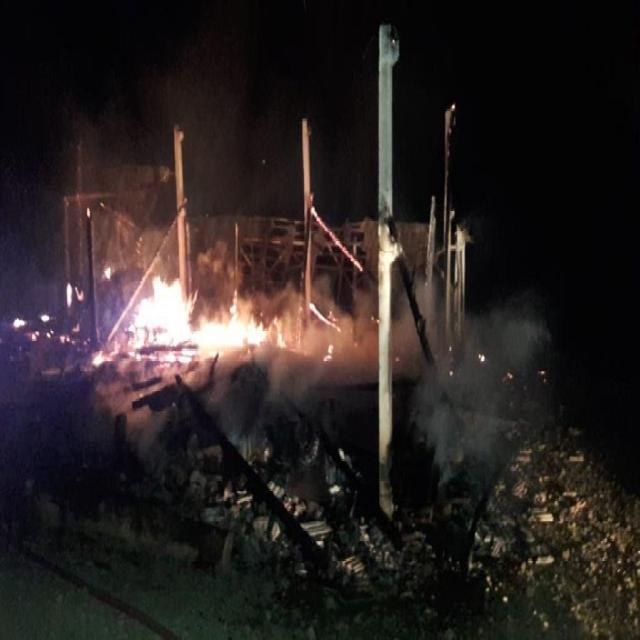Fire: (126, 276, 202, 362), (200, 288, 268, 350), (94, 336, 122, 369), (270, 313, 288, 348), (12, 316, 39, 339), (66, 280, 84, 308), (60, 326, 80, 344), (41, 314, 53, 339), (322, 344, 334, 362), (327, 310, 339, 323)
Smoke: (414, 302, 554, 484), (337, 297, 379, 390), (198, 236, 245, 287), (274, 356, 324, 394), (396, 296, 414, 376)
